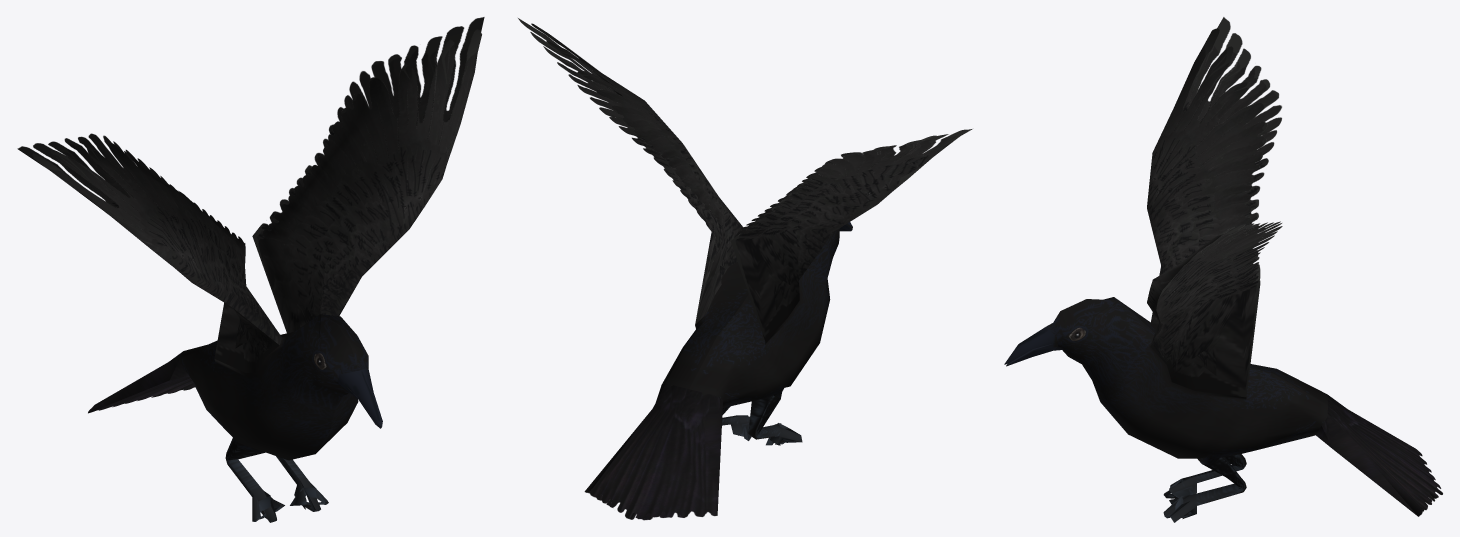
Rendered from living-crow.glb.
3 views of the same model, side by side, from view 1: azimuth 30°, elevation 25°; view 2: azimuth 150°, elevation 25°; view 3: azimuth 270°, elevation 25° (orthographic). The views are drawn at different scales.
Visible parts, largest first — view 1: Crow; view 2: Crow; view 3: Crow.
Part boxes in pixels (x1,y1,x2,y2): Crow: (17, 17, 484, 522); Crow: (518, 18, 972, 520); Crow: (1004, 17, 1442, 522).
Size of the model in its own units: 0.6362 by 0.5328 by 0.5436.
Materials: 1 (1 with a texture image).
